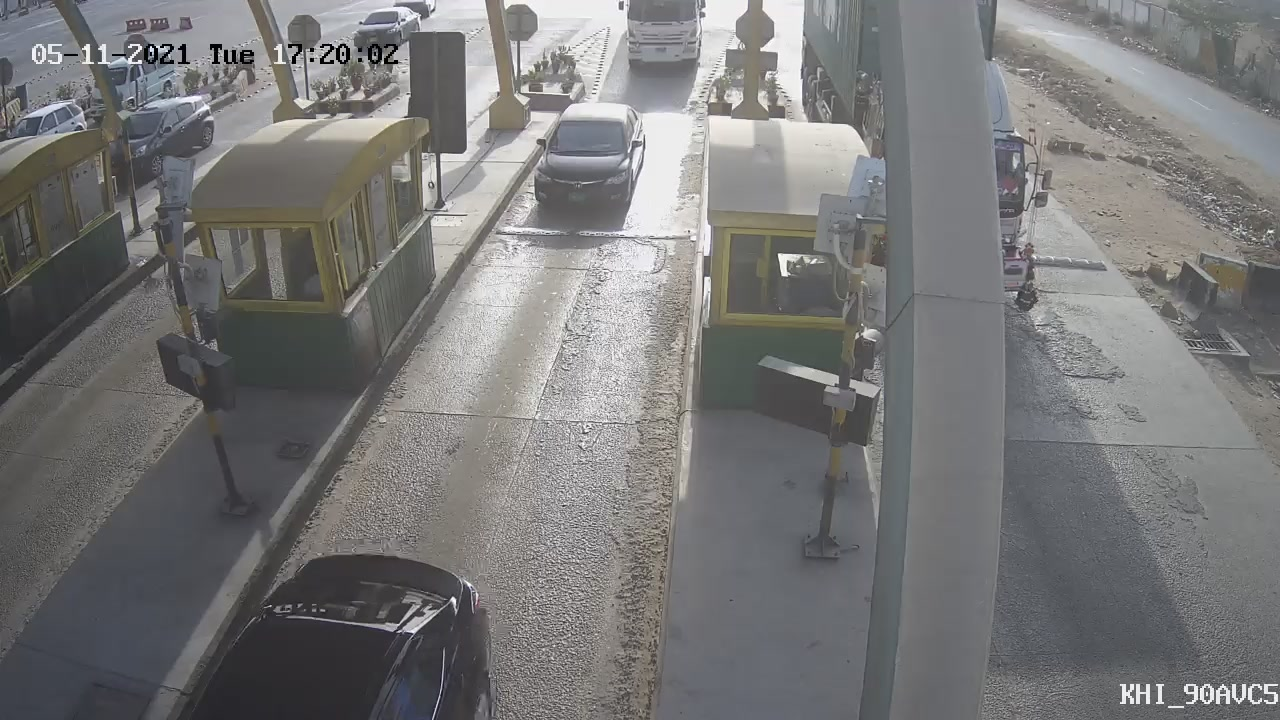F1: (508, 85, 666, 236)
